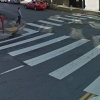crosswalk: (0, 33, 100, 95), (22, 15, 84, 33)
